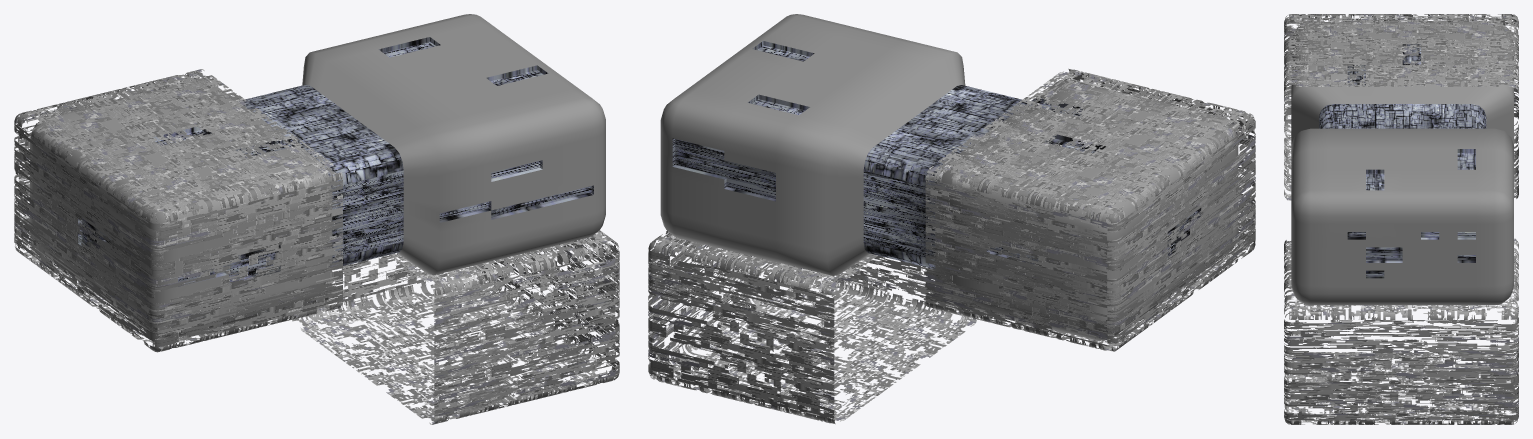
Rendered from JMqgkfi8641fig.FBX.
3 renders of one model, left to right at view 1: azimuth 30°, elevation 25°; view 2: azimuth 150°, elevation 25°; view 3: azimuth 270°, elevation 25°, orthographic. The views are drawn at different scales.
Parts seen in each view (by area): view 1: ChamferBox001, ChamferBox002, ChamferBox003; view 2: ChamferBox001, ChamferBox002, ChamferBox003; view 3: ChamferBox001, ChamferBox003, ChamferBox002.
Boxes of the visible parts, <box> form: ChamferBox001: <box>30,14,605,339</box>; ChamferBox002: <box>14,69,342,352</box>; ChamferBox003: <box>291,230,619,424</box>; ChamferBox001: <box>660,14,1238,340</box>; ChamferBox002: <box>925,68,1255,351</box>; ChamferBox003: <box>648,231,976,424</box>; ChamferBox001: <box>1291,22,1513,305</box>; ChamferBox003: <box>1284,238,1518,424</box>; ChamferBox002: <box>1284,14,1518,200</box>.
Bounding box in the file's own units: 91.3 × 51.89 × 48.36.
Materials: 4 (3 with a texture image).
